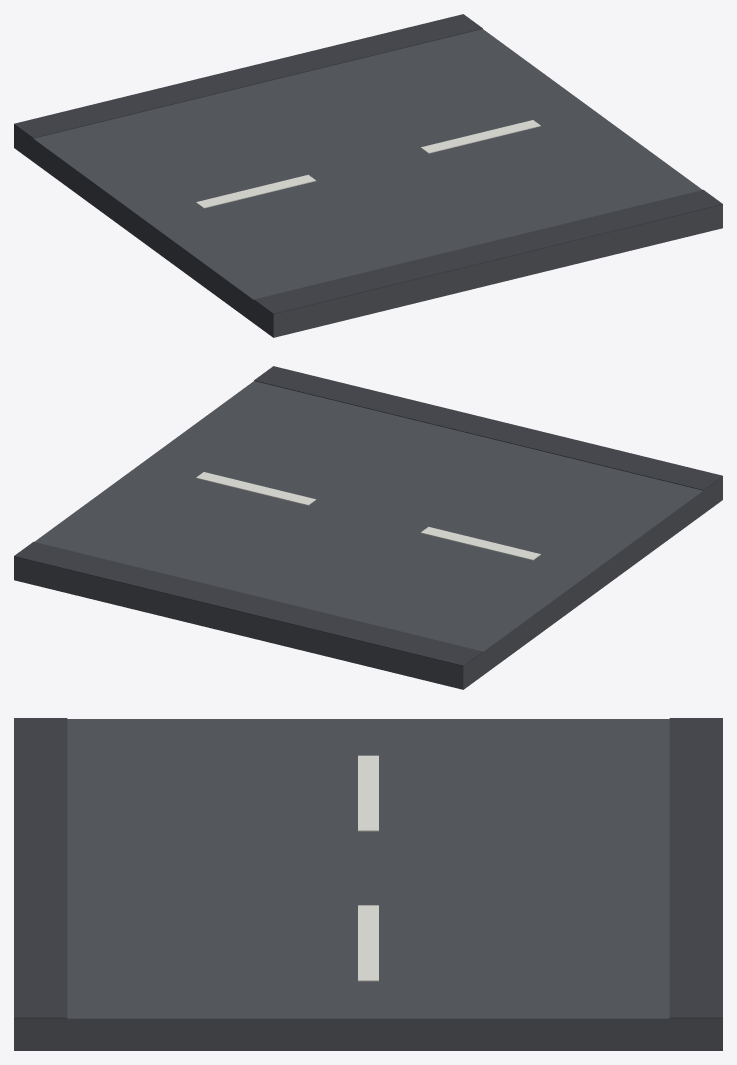
Rendered from Road_Straight.glb.
The picture shows the model from 3 angles, top to bottom: view 1: azimuth 30°, elevation 25°; view 2: azimuth 150°, elevation 25°; view 3: azimuth 270°, elevation 25°; orthographic projection. The views are drawn at different scales.
Visible parts, largest first — view 1: Road_Straight; view 2: Road_Straight; view 3: Road_Straight.
Part boxes in pixels (left/top/right/bottom): Road_Straight: left=14, top=14, right=722, bottom=337; Road_Straight: left=14, top=366, right=722, bottom=689; Road_Straight: left=14, top=718, right=722, bottom=1050.
Bounding box in the file's own units: 4 × 0.206 × 4.
Materials: 1 (1 with a texture image).
